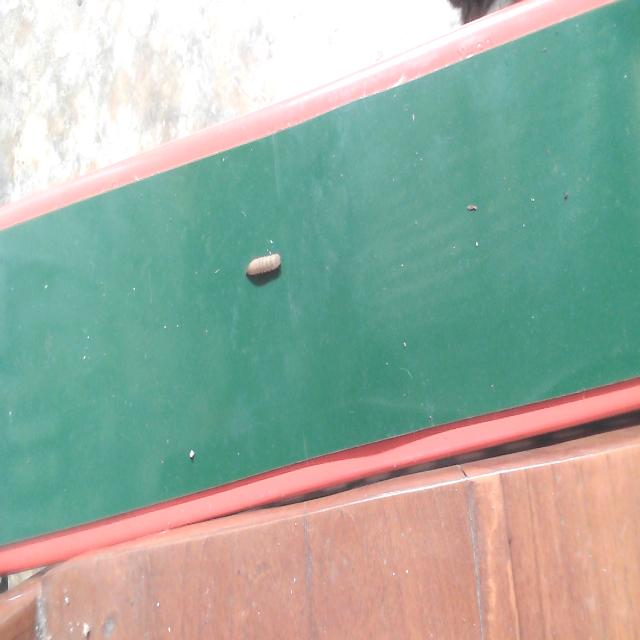Maggot: (244, 251, 282, 287)
